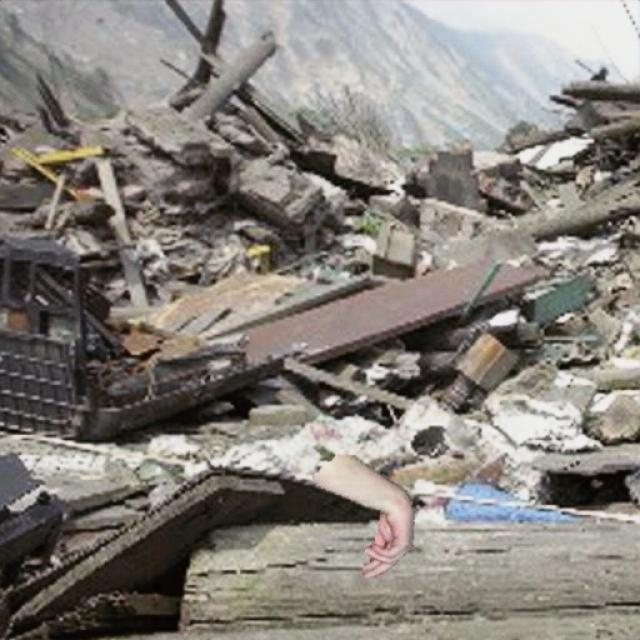Person in Rubble: (311, 455, 414, 576)
